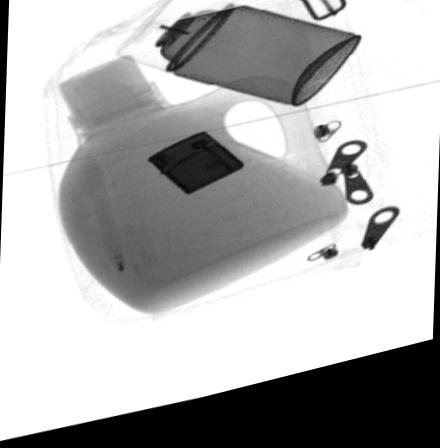Lighter: (146, 139, 242, 205)
Sprayer: (114, 0, 360, 120)
